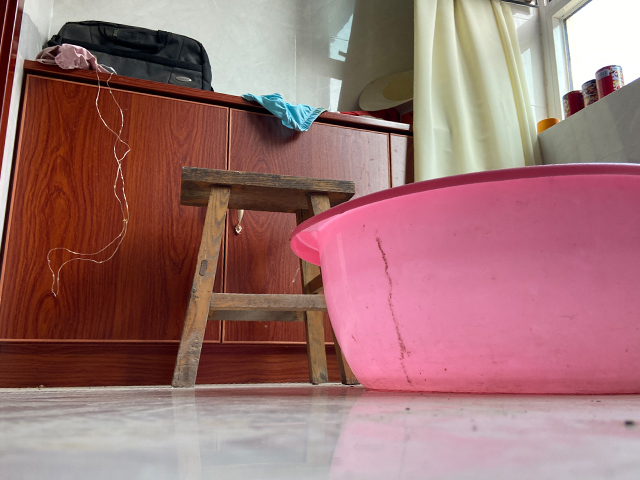cabinet: (1, 58, 414, 388)
stool: (170, 166, 362, 386)
